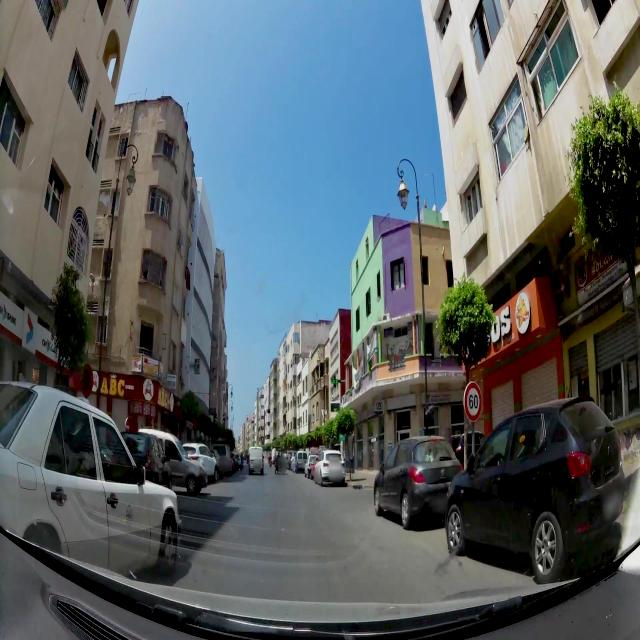car: (0, 380, 180, 589), (445, 394, 635, 586), (373, 432, 463, 530), (120, 428, 207, 495), (181, 441, 218, 483), (313, 448, 346, 486), (211, 444, 234, 476), (249, 446, 264, 474), (304, 454, 319, 478), (294, 450, 309, 472), (287, 451, 296, 469), (233, 452, 242, 470)
